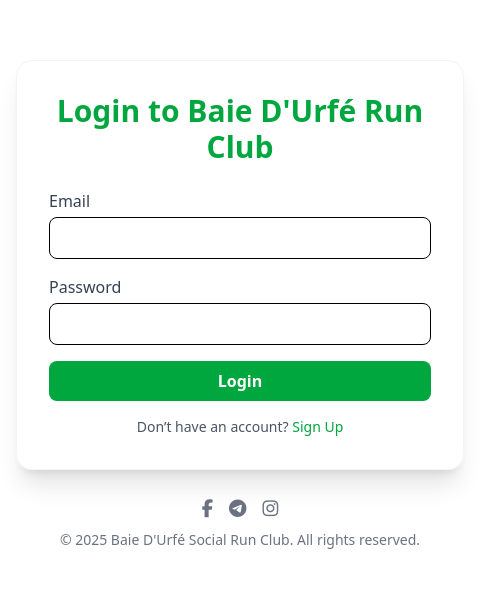
Test: Login Flow › should show an error for invalid credentials
The width and height of the screenshot is (481, 610).
// Fill out the login form with invalid credentials
Type "invalid.email@gmail.com" into the field with id "email". click: (240,238)
box: [49, 217, 431, 259]
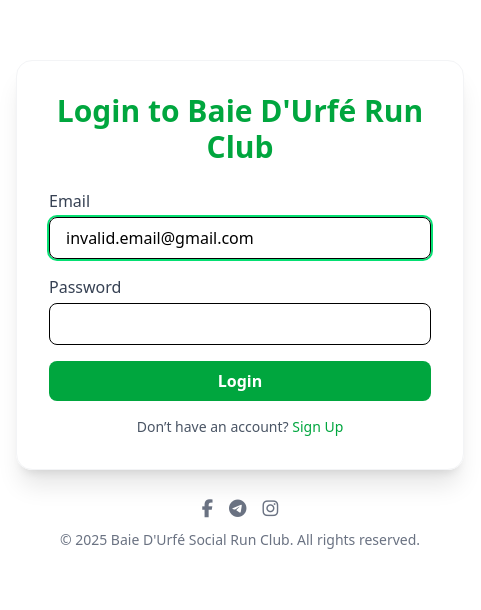
Type "WrongPassword123!" into the password field labelled "Password". click: (240,324)
box: [49, 303, 431, 345]
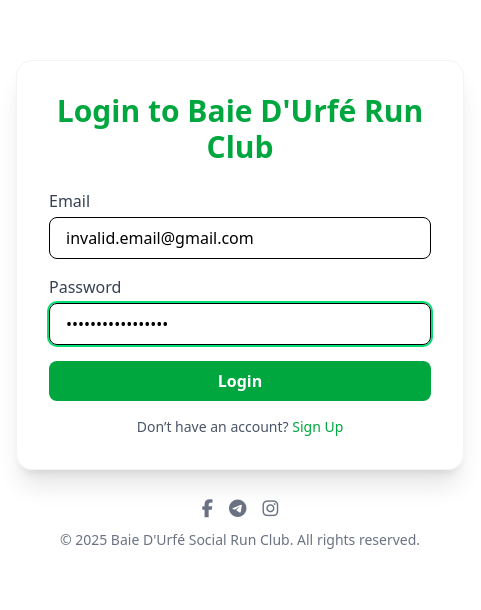
// Submit the form
Submit the form, box [49, 189, 431, 401]
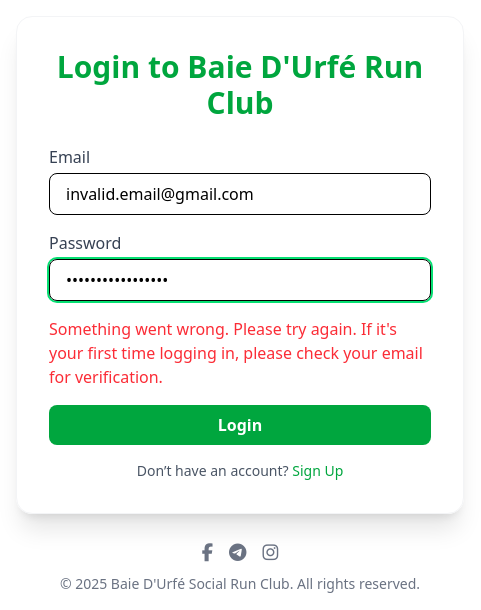
Expected: the text "Something went wrong. Please try again." is shown, [49, 318, 423, 388]
